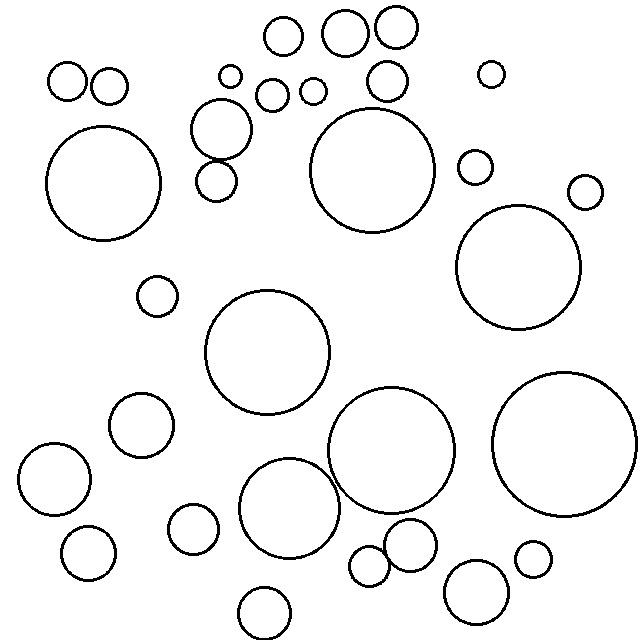circle: (487, 368, 640, 520), (451, 200, 585, 334), (327, 383, 459, 516), (308, 104, 439, 236), (202, 286, 333, 418), (44, 120, 166, 245), (235, 454, 343, 564), (15, 439, 95, 520), (439, 557, 514, 631), (106, 389, 178, 463), (187, 96, 256, 162), (57, 523, 121, 586), (163, 497, 225, 559), (382, 514, 440, 576), (233, 584, 294, 640), (318, 6, 372, 61), (363, 57, 414, 106), (345, 540, 394, 591), (192, 158, 242, 207), (373, 3, 423, 52), (132, 272, 182, 320), (260, 12, 308, 60), (44, 58, 91, 104), (511, 537, 557, 582), (88, 64, 133, 108), (565, 170, 608, 214), (455, 145, 496, 189), (254, 75, 293, 115), (475, 57, 509, 93), (298, 72, 331, 109), (217, 61, 245, 91)
